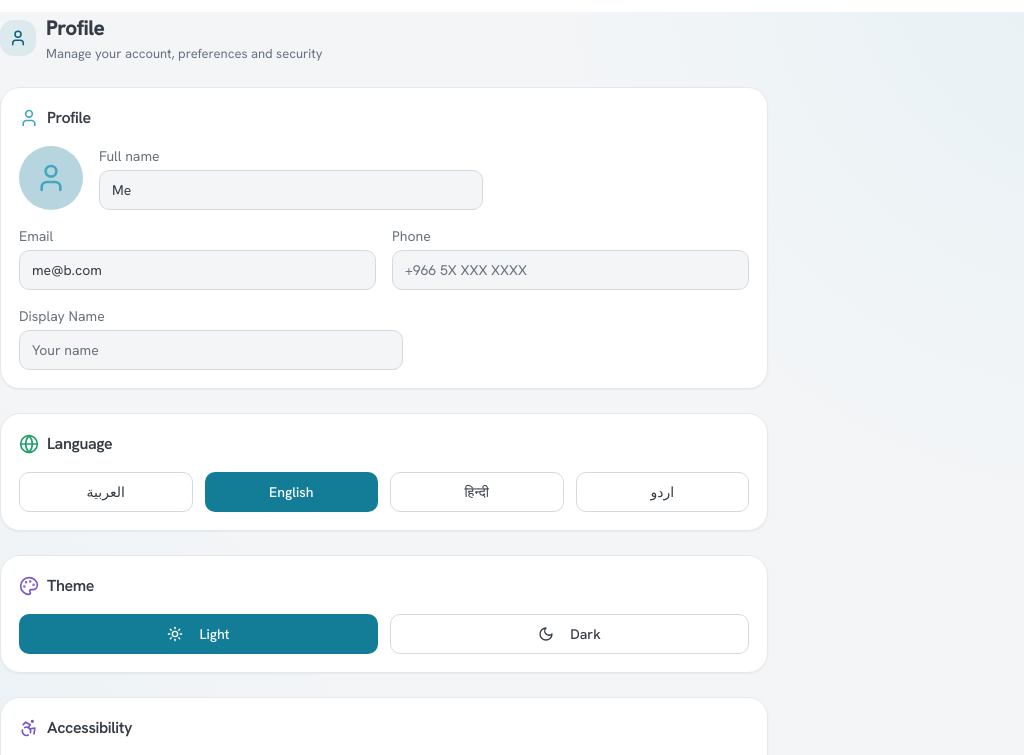
Test: UserProfile selected-state a11y (#226) › moves aria-pressed when a different language is chosen
Click the button "العربية" at x=106, y=492, box [19,472,192,512]
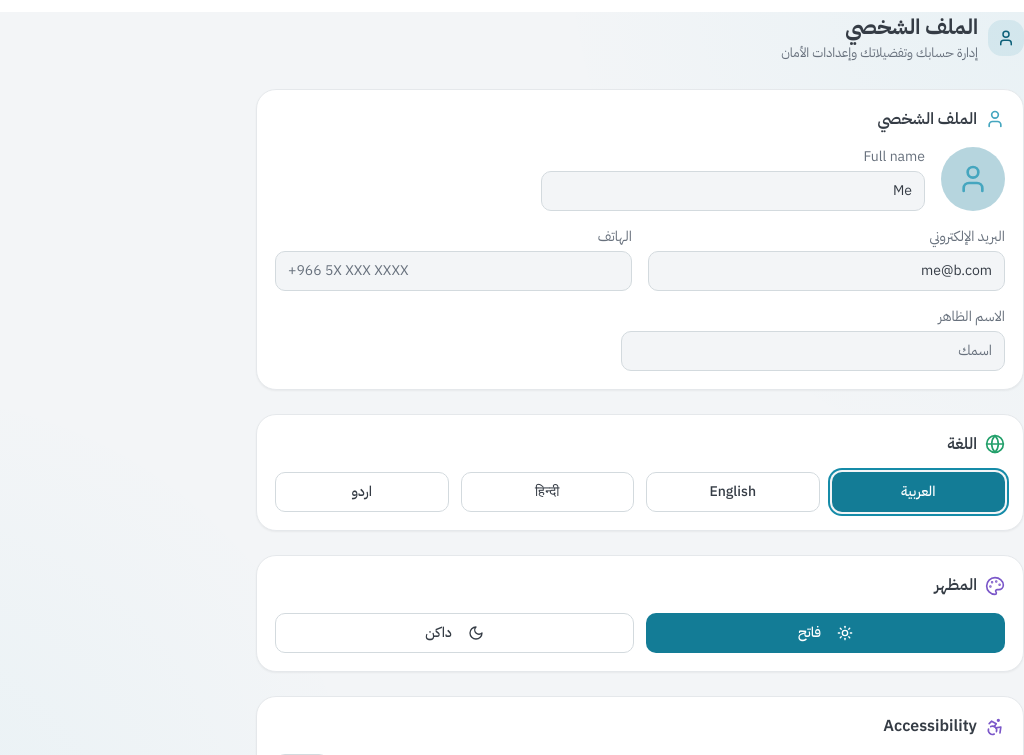
Check: the button "العربية" is pressed, box [832,472,1005,512]
